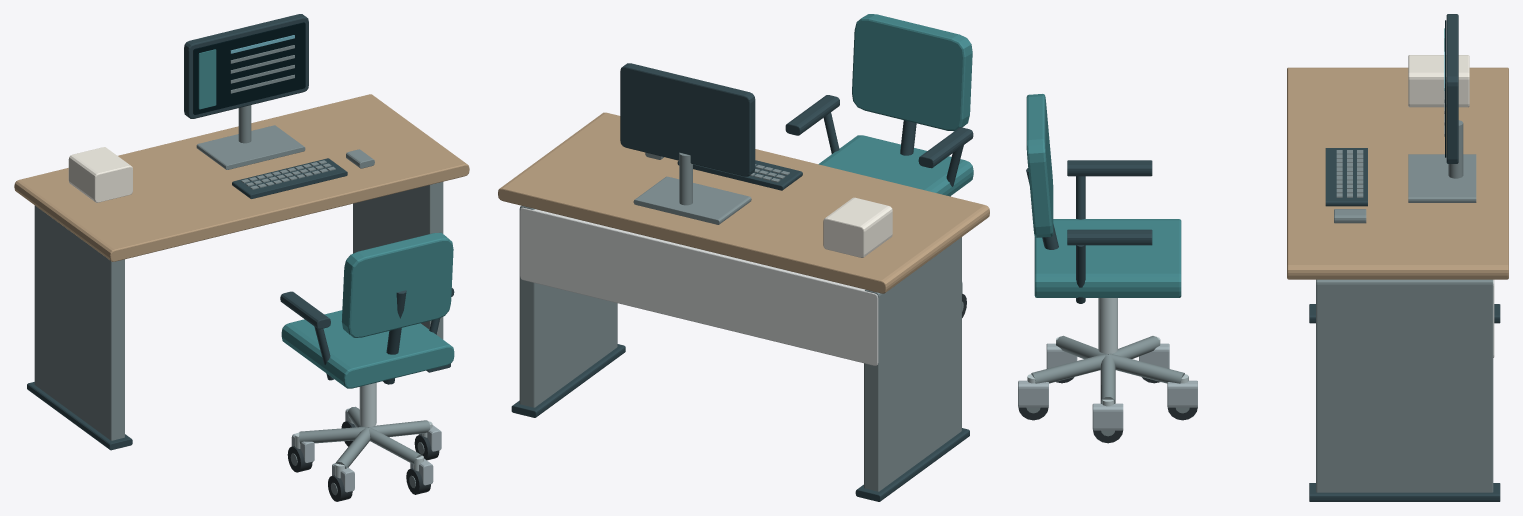
The model's file is workstation.glb.
3 renders of one model, left to right at view 1: azimuth 30°, elevation 25°; view 2: azimuth 150°, elevation 25°; view 3: azimuth 270°, elevation 25°, orthographic. The views are drawn at different scales.
Parts seen in each view (by area): view 1: workstation-batch (×2), work-surface, workstation-chair-batch (×6), workstation, document-holder; view 2: workstation-batch (×2), work-surface, workstation, workstation-chair-batch (×2), document-holder; view 3: workstation-batch (×2), work-surface, workstation-chair-batch (×6), document-holder.
Part boxes in pixels (x1,y1,x2,y2): workstation-batch (×2): (27, 14, 450, 450); work-surface: (14, 94, 469, 261); workstation-chair-batch (×6): (280, 232, 454, 501); workstation: (193, 22, 305, 114); document-holder: (68, 147, 132, 202); workstation-batch (×2): (511, 63, 969, 501); work-surface: (498, 112, 989, 293); workstation: (520, 207, 878, 365); workstation-chair-batch (×2): (785, 14, 973, 196); document-holder: (823, 197, 892, 257); workstation-batch (×2): (1309, 14, 1500, 501); work-surface: (1287, 67, 1508, 279); workstation-chair-batch (×6): (1018, 94, 1197, 443); document-holder: (1408, 55, 1469, 107).
Size of the model in its own units: 1.4 by 1.22 by 1.44.
